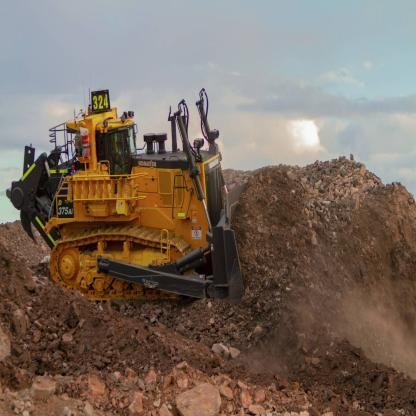bull_dozer/loader/grader: (6, 93, 247, 328)
